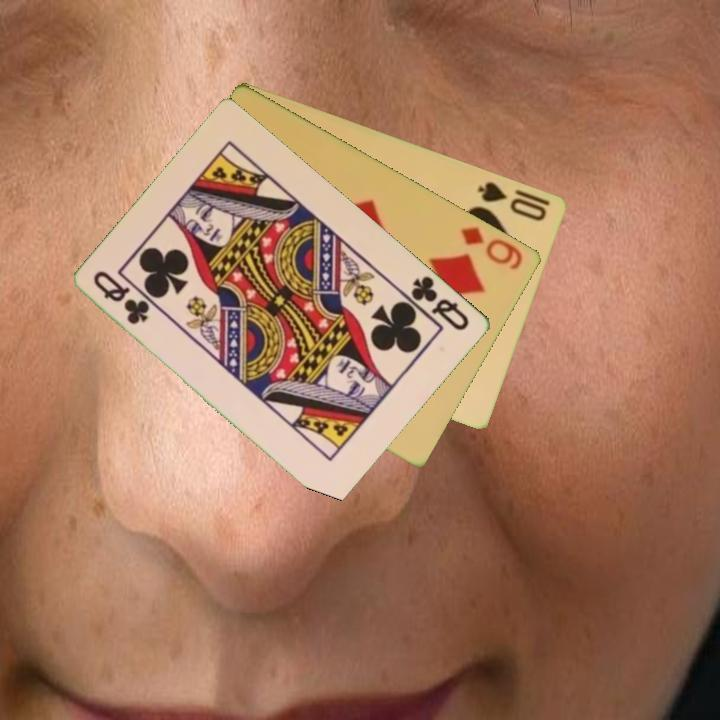10s: (474, 177, 550, 224)
6d: (458, 222, 526, 273)
Qc: (399, 272, 473, 334), (90, 267, 153, 328)
